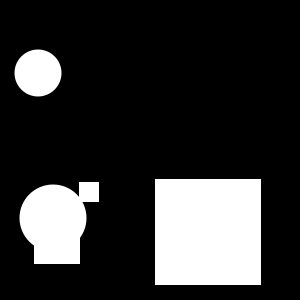circle: (155, 179, 261, 285), (34, 218, 80, 264), (79, 182, 99, 202)
rectangle: (20, 184, 86, 252), (15, 50, 62, 96)
